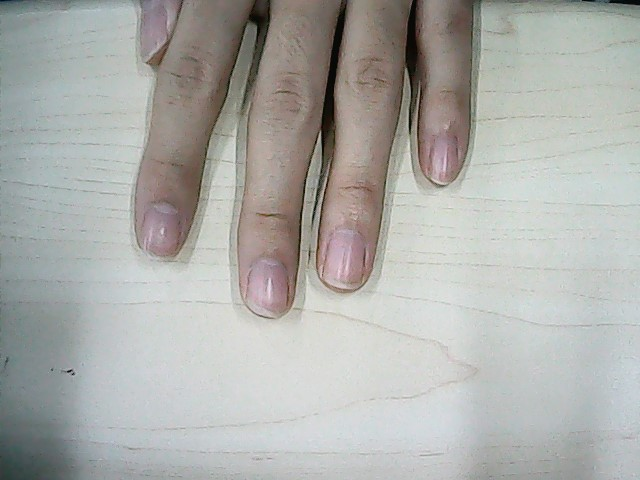nail: (250, 262, 289, 320), (141, 203, 178, 262), (328, 231, 364, 290), (430, 139, 457, 185)
